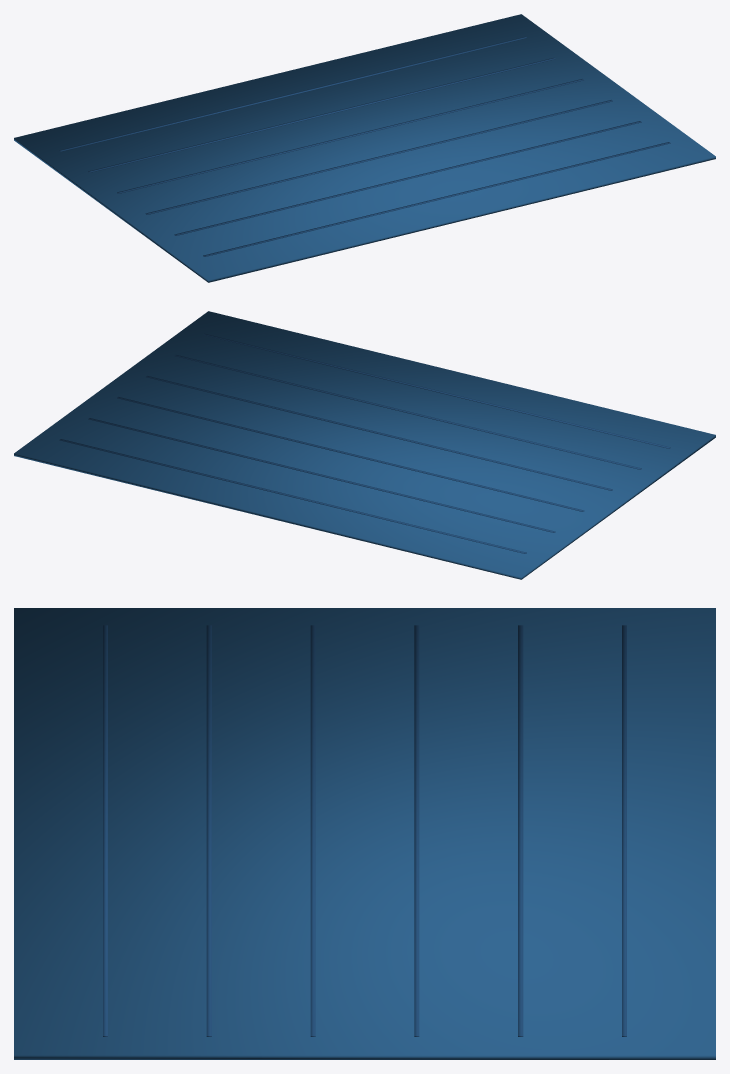
File: 09_L95_TopNavySoldermask.fbx
3 renders of one model, top to bottom at view 1: azimuth 30°, elevation 25°; view 2: azimuth 150°, elevation 25°; view 3: azimuth 270°, elevation 25°, orthographic. The views are drawn at different scales.
Visible parts, largest first — view 1: L95_TopNavySoldermask; view 2: L95_TopNavySoldermask; view 3: L95_TopNavySoldermask.
Part boxes in pixels (left/top/right/bottom): L95_TopNavySoldermask: left=14, top=14, right=715, bottom=282; L95_TopNavySoldermask: left=14, top=311, right=715, bottom=579; L95_TopNavySoldermask: left=14, top=608, right=715, bottom=1059.
Size of the model in its own units: 1.43 by 0.0085 by 0.947.
